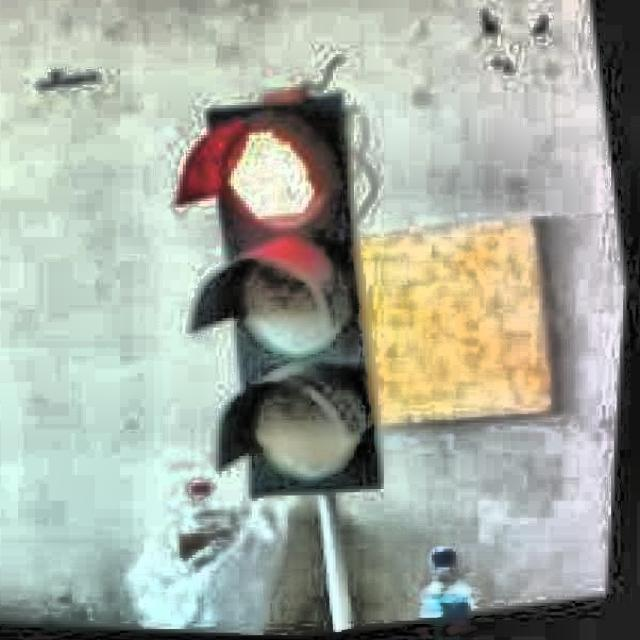red: (208, 83, 375, 503)
